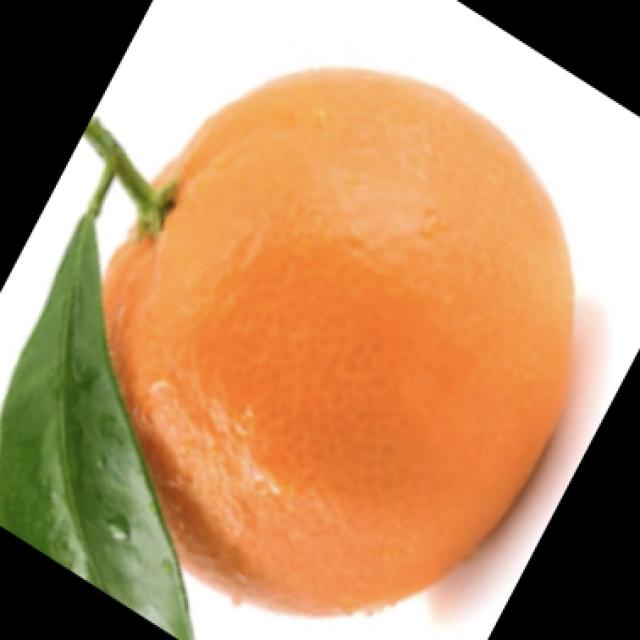orange: (81, 66, 583, 635)
